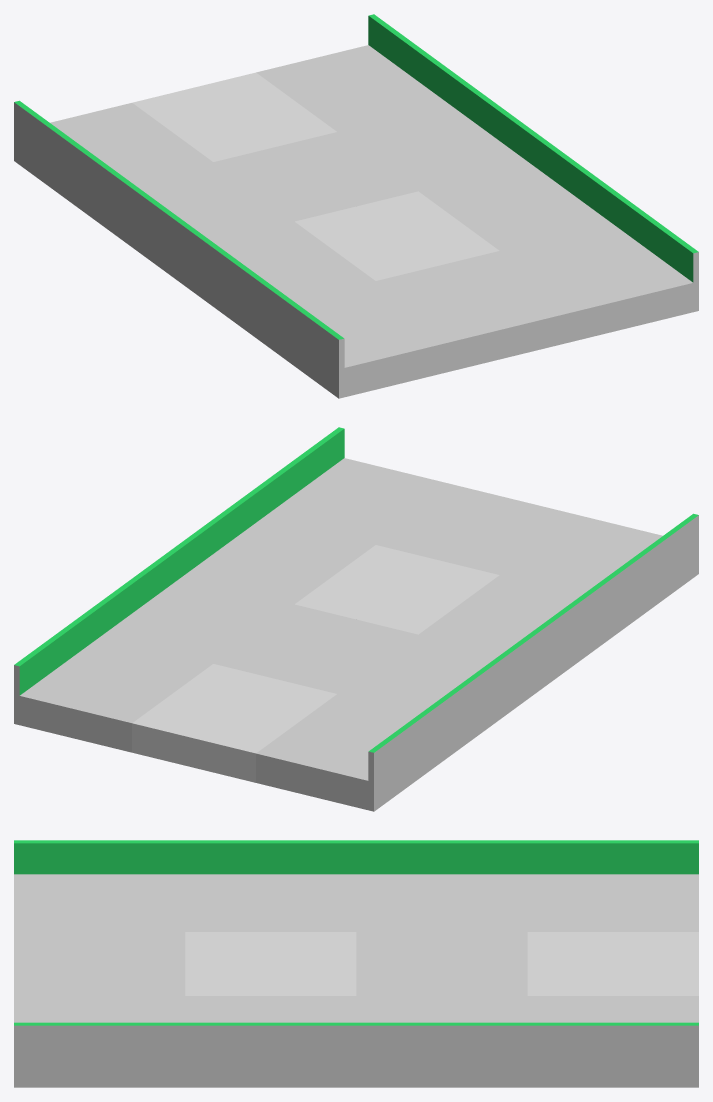
3 views of the same model, one above another, from view 1: azimuth 30°, elevation 25°; view 2: azimuth 150°, elevation 25°; view 3: azimuth 270°, elevation 25° (orthographic). The views are drawn at different scales.
Parts seen in each view (by area): view 1: Cube.009, Cube.023, Cube.024, Cube.022, Cube.021; view 2: Cube.009, Cube.022, Cube.024, Cube.023, Cube.021; view 3: Cube.009, Cube.023, Cube.024, Cube.021, Cube.022.
Boxes of the visible parts, x1=… form: Cube.009: x1=14, y1=14, x2=617, y2=398; Cube.023: x1=500, y1=192, x2=698, y2=339; Cube.024: x1=95, y1=160, x2=293, y2=279; Cube.022: x1=132, y1=72, x2=336, y2=161; Cube.021: x1=295, y1=191, x2=499, y2=280; Cube.009: x1=14, y1=485, x2=698, y2=811; Cube.022: x1=132, y1=664, x2=336, y2=782; Cube.024: x1=337, y1=632, x2=536, y2=751; Cube.023: x1=258, y1=427, x2=456, y2=544; Cube.021: x1=295, y1=545, x2=499, y2=634; Cube.009: x1=14, y1=840, x2=698, y2=1087; Cube.023: x1=14, y1=996, x2=185, y2=1087; Cube.024: x1=356, y1=840, x2=527, y2=931; Cube.021: x1=185, y1=932, x2=356, y2=995; Cube.022: x1=527, y1=932, x2=698, y2=995.
Bounding box in the file's own units: 12.8 × 2 × 20.
